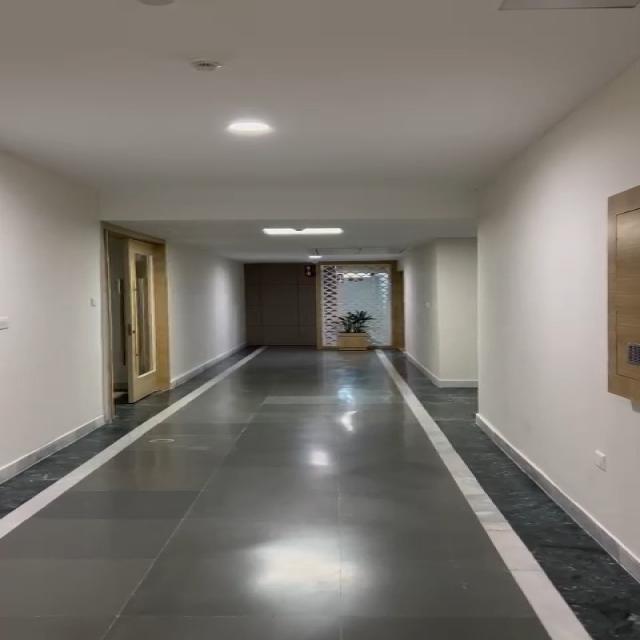door: (110, 230, 185, 415), (251, 260, 400, 350), (600, 199, 640, 415)
floor: (144, 367, 490, 640)
furniture: (315, 299, 383, 354)
wall: (406, 36, 592, 512), (0, 0, 119, 473)
